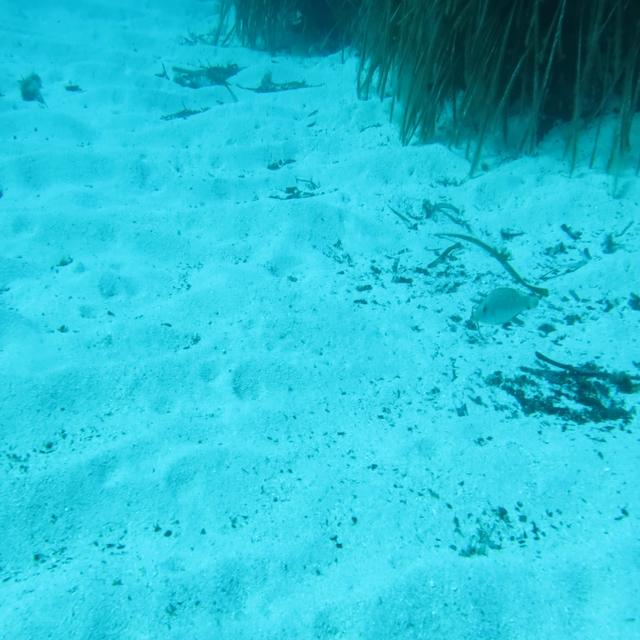AM: (470, 286, 540, 332)
vegetation: (352, 51, 640, 153), (222, 0, 640, 53), (493, 378, 640, 424), (470, 307, 480, 337)
